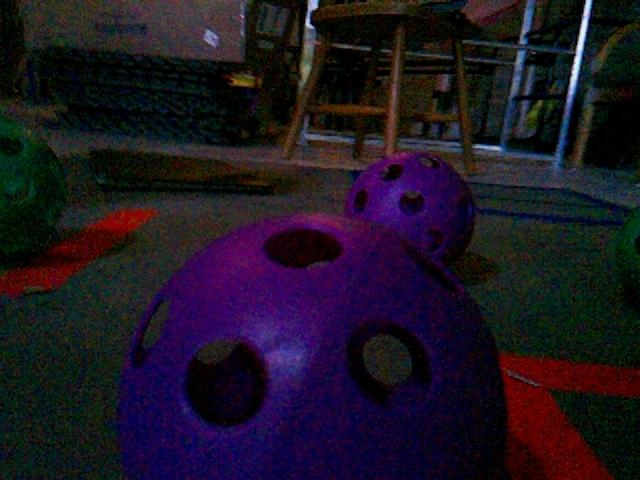Green: (1, 108, 69, 264)
Purple: (118, 211, 502, 479), (342, 152, 477, 266)
